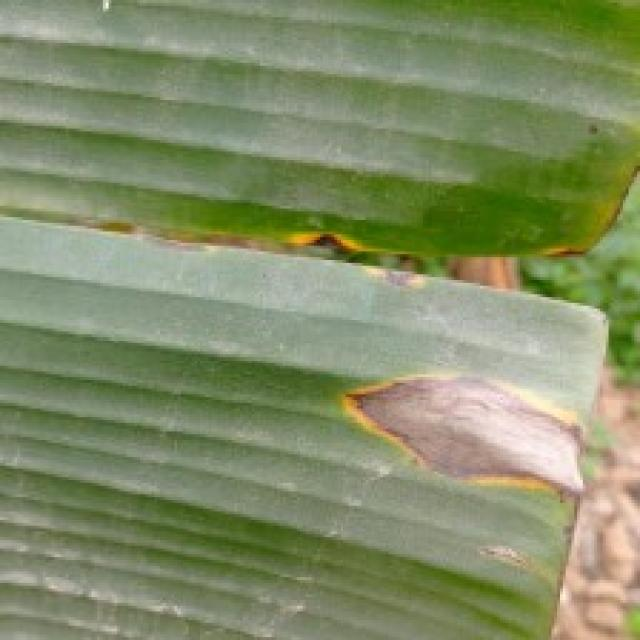Bacterial_spot: (339, 359, 604, 519), (463, 526, 556, 598), (290, 213, 372, 260), (537, 228, 596, 276)
